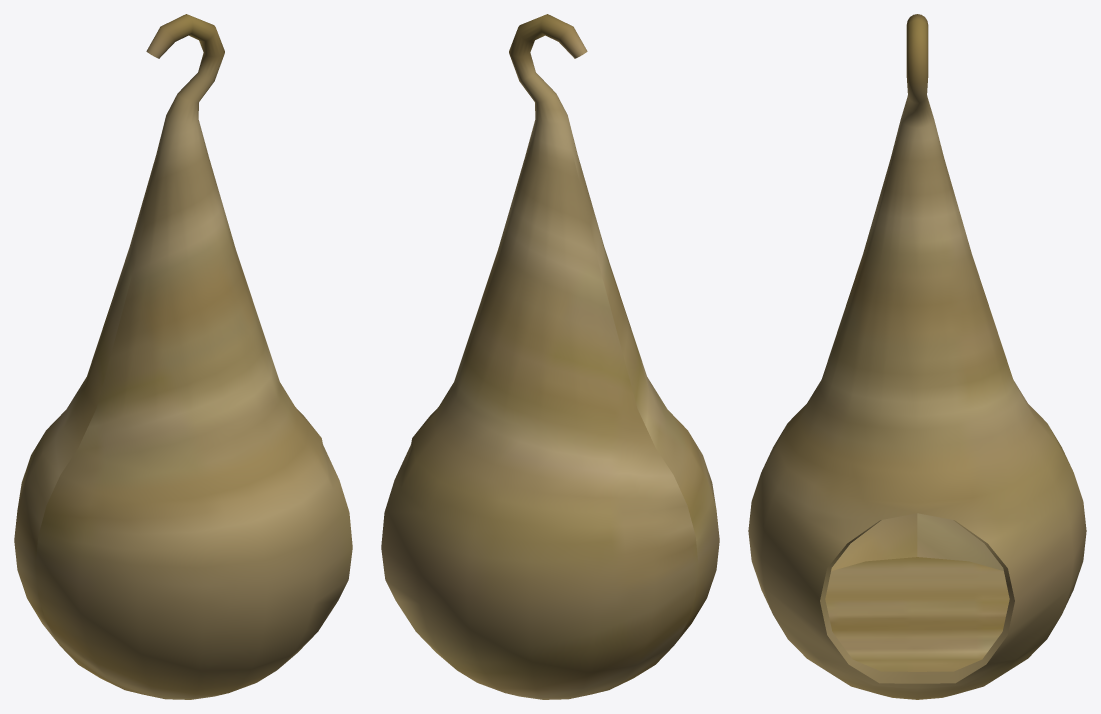
File: Player_house._3blend.fbx
The picture shows the model from 3 angles, left to right: view 1: azimuth 30°, elevation 25°; view 2: azimuth 150°, elevation 25°; view 3: azimuth 270°, elevation 25°; orthographic projection.
Parts seen in each view (by area): view 1: Sphere; view 2: Sphere; view 3: Sphere.
Boxes of the visible parts, x1,y1,x2,y2 form: Sphere: (14,14,352,699); Sphere: (381,14,719,699); Sphere: (748,14,1086,699).
Bounding box in the file's own units: 217 × 516 × 237.
